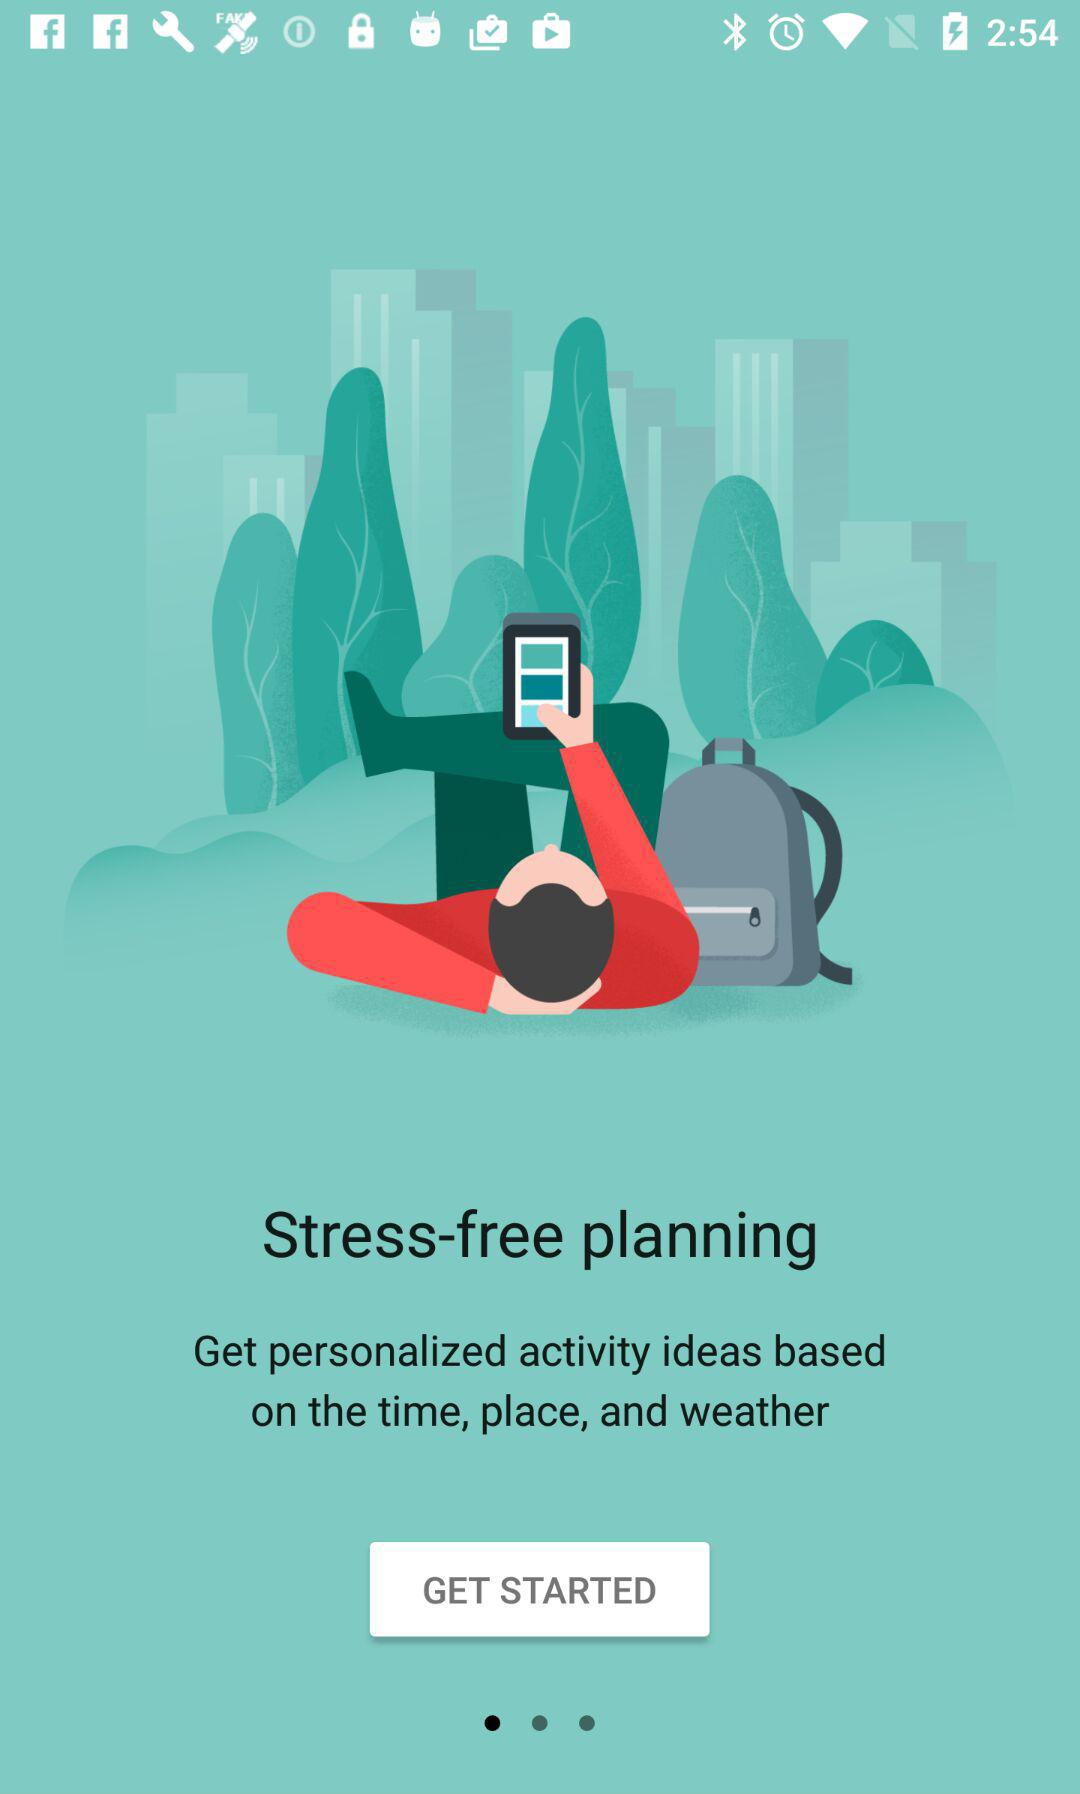Image: (64, 267, 1008, 1041)
PageIndicator: (483, 1713, 597, 1734)
Text: (195, 1331, 887, 1436), (261, 1206, 817, 1272)
TextButton: (370, 1542, 711, 1638)
UpperTaskBar: (1, 1, 1080, 64)
